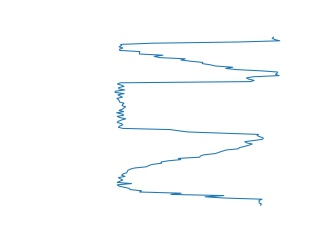distributaryChannelFill: (110, 73, 268, 143)
mouthBar: (116, 35, 283, 80)
underwaterDistributaryChannel: (113, 136, 268, 209)
